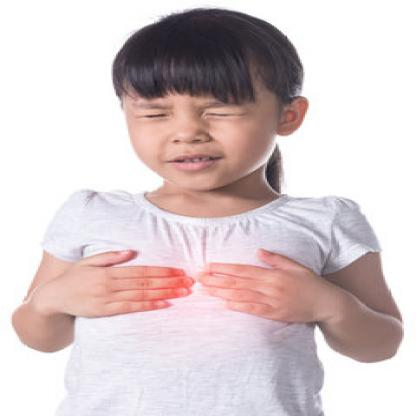pain: (124, 96, 263, 131)
